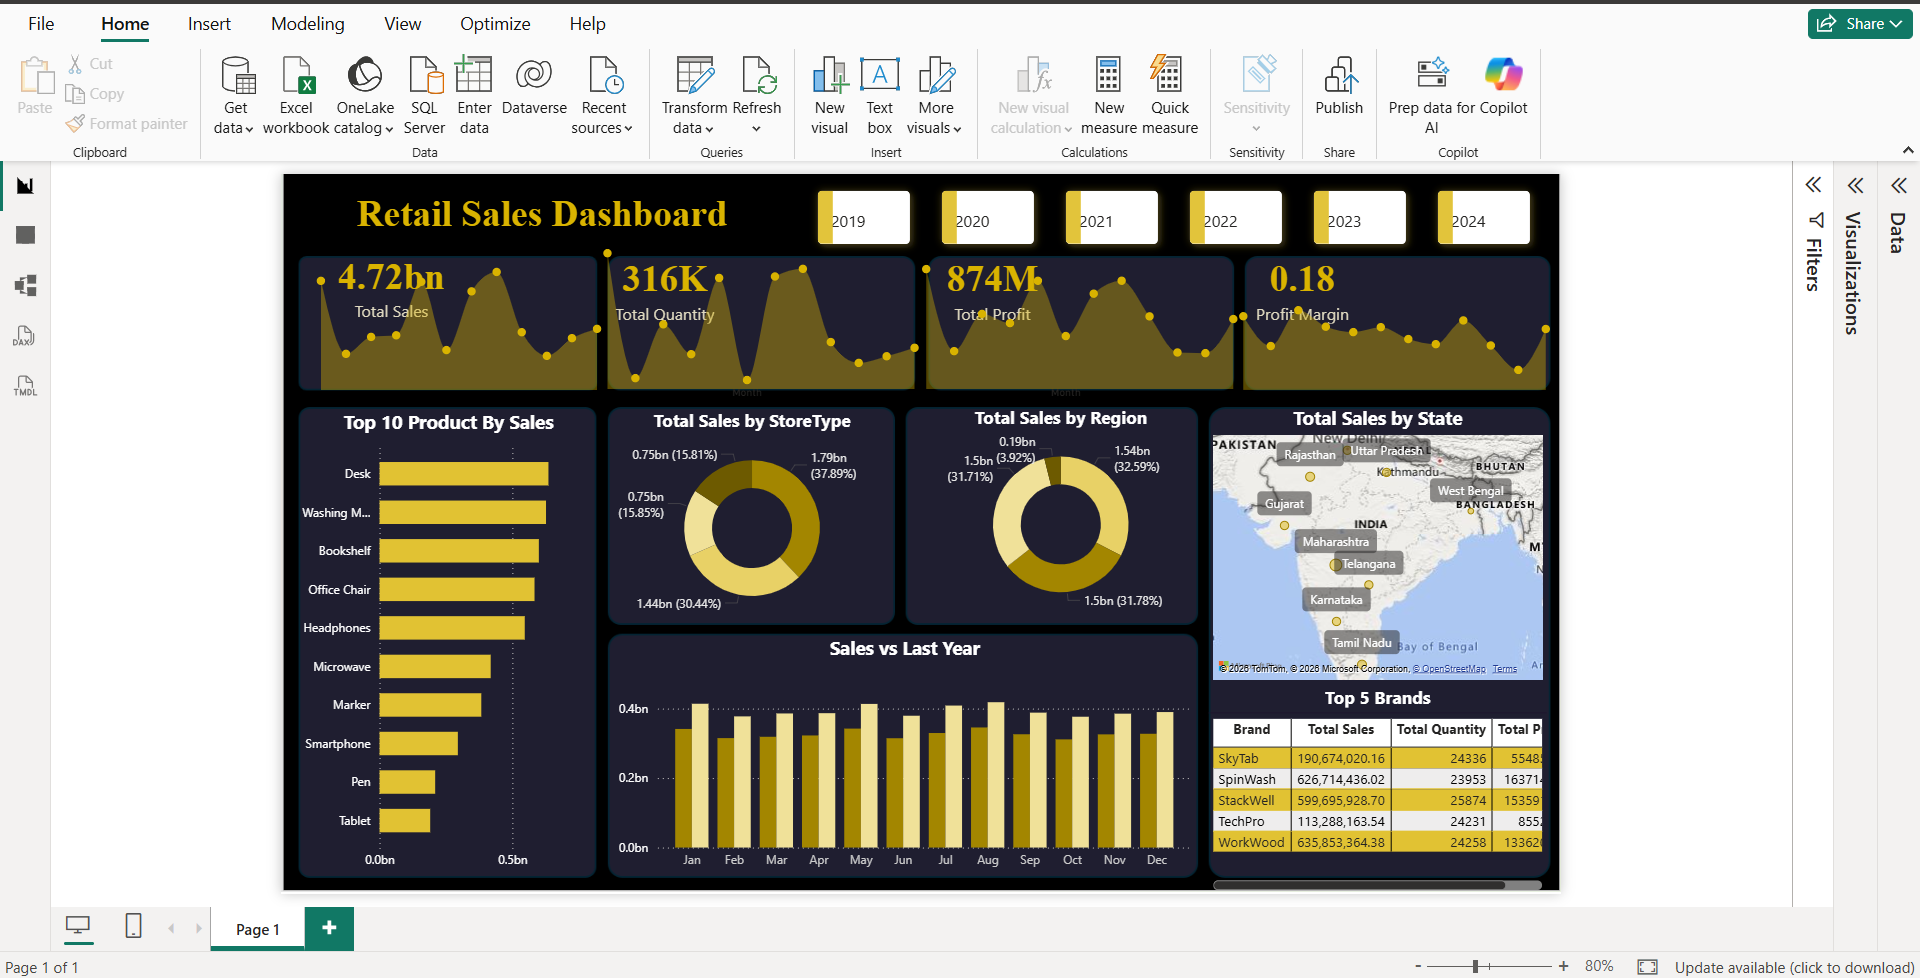

This screenshot's page, from the dashboard's own definition file:
{"tool":"powerbi","page":{"name":"Page 1","canvas":[1280,720],"ordinal":0},"visuals":[{"type":"textbox","box":[18.8,12.5,485,58.8],"z":0},{"type":"cardVisual","fields":{"Data":["All_Measures.Total Sales"]},"box":[0,65,221.2,100],"z":1000},{"type":"cardVisual","fields":{"Data":["All_Measures.Total Quantity"]},"box":[237.5,51.2,293.8,131.2],"z":2000},{"type":"cardVisual","fields":{"Data":["All_Measures.Total Profit"]},"box":[565,51.2,293.8,131.2],"z":3000},{"type":"cardVisual","fields":{"Data":["All_Measures.Profit Margin"]},"box":[875,51.2,293.8,131.2],"z":4000},{"type":"areaChart","fields":{"Y":["All_Measures.Total Sales"],"Category":["calender Table.Month"]},"box":[0,80,331.2,141.2],"z":5000},{"type":"areaChart","fields":{"Y":["All_Measures.Total Quantity"],"Category":["calender Table.Month"]},"box":[283.8,61.2,365,168.8],"z":6000},{"type":"areaChart","fields":{"Y":["All_Measures.Total Profit"],"Category":["calender Table.Month"]},"box":[602.5,61.2,365,168.8],"z":7000},{"type":"areaChart","fields":{"Y":["All_Measures.Profit Margin"],"Category":["calender Table.Month"]},"box":[920,117.5,360,103.8],"z":8000},{"type":"clusteredBarChart","title":"Top 10 Product By Sales","fields":{"Y":["All_Measures.Total Sales"],"Category":["Dim_Product.ProductName"]},"box":[3.8,235,327.5,468.8],"z":9000},{"type":"donutChart","fields":{"Y":["All_Measures.Total Sales"],"Category":["Dim_Store.StoreType"]},"box":[331.2,235,280,216.2],"z":10000},{"type":"donutChart","fields":{"Y":["All_Measures.Total Sales"],"Category":["Dim_Store.Region"]},"box":[640,231.2,280,216.2],"z":11000},{"type":"clusteredColumnChart","title":"Sales vs Last Year","fields":{"Y":["All_Measures.Sales LY","All_Measures.Total Sales"],"Category":["calender Table.Month Name"]},"box":[332.5,461.2,582.5,242.5],"z":12000},{"type":"map","fields":{"Size":["All_Measures.Total Sales"],"Category":["Dim_Store.State"]},"box":[927.5,231.2,338.8,280],"z":13000},{"type":"pivotTable","title":"Top 5 Brands","fields":{"Rows":["Dim_Product.Brand"],"Values":["All_Measures.Total Sales","All_Measures.Total Quantity","All_Measures.Total Profit"]},"box":[927.5,511.2,338.8,208.8],"z":14000},{"type":"advancedSlicerVisual","fields":{"Values":["calender Table.Year"]},"box":[520,0,746.2,87.5],"z":15000}]}

Visuals, with their boxes on the page's 1280x720 design canvas (x1, y1, x2, y2). These are canvas units, not pixel positions in the 1920x978 screenshot, which may show the page scaled, cropped or inside an application window:
textbox: [19,12,504,71]
cardVisual - All_Measures.Total Sales: [0,65,221,165]
cardVisual - All_Measures.Total Quantity: [238,51,531,182]
cardVisual - All_Measures.Total Profit: [565,51,859,182]
cardVisual - All_Measures.Profit Margin: [875,51,1169,182]
areaChart - All_Measures.Total Sales x calender Table.Month: [0,80,331,221]
areaChart - All_Measures.Total Quantity x calender Table.Month: [284,61,649,230]
areaChart - All_Measures.Total Profit x calender Table.Month: [602,61,968,230]
areaChart - All_Measures.Profit Margin x calender Table.Month: [920,118,1280,221]
"Top 10 Product By Sales" clusteredBarChart: [4,235,331,704]
donutChart - All_Measures.Total Sales x Dim_Store.StoreType: [331,235,611,451]
donutChart - All_Measures.Total Sales x Dim_Store.Region: [640,231,920,447]
"Sales vs Last Year" clusteredColumnChart: [332,461,915,704]
map - All_Measures.Total Sales x Dim_Store.State: [928,231,1266,511]
"Top 5 Brands" pivotTable: [928,511,1266,720]
advancedSlicerVisual - calender Table.Year: [520,0,1266,88]
